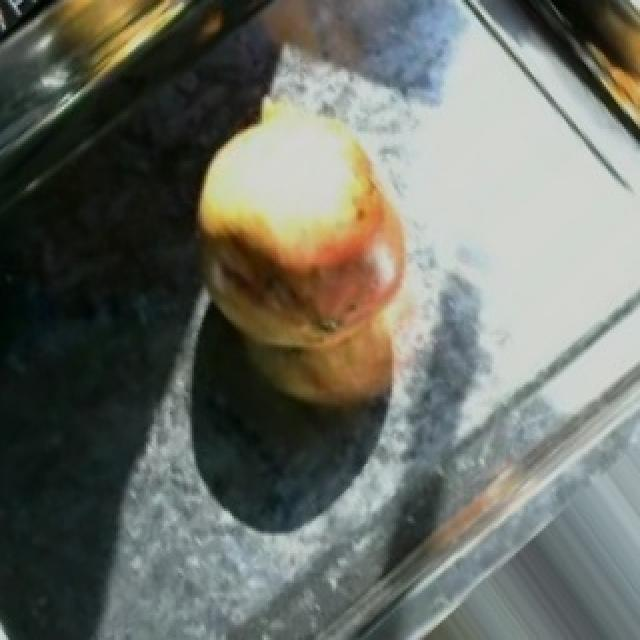fruit: (164, 74, 436, 374)
